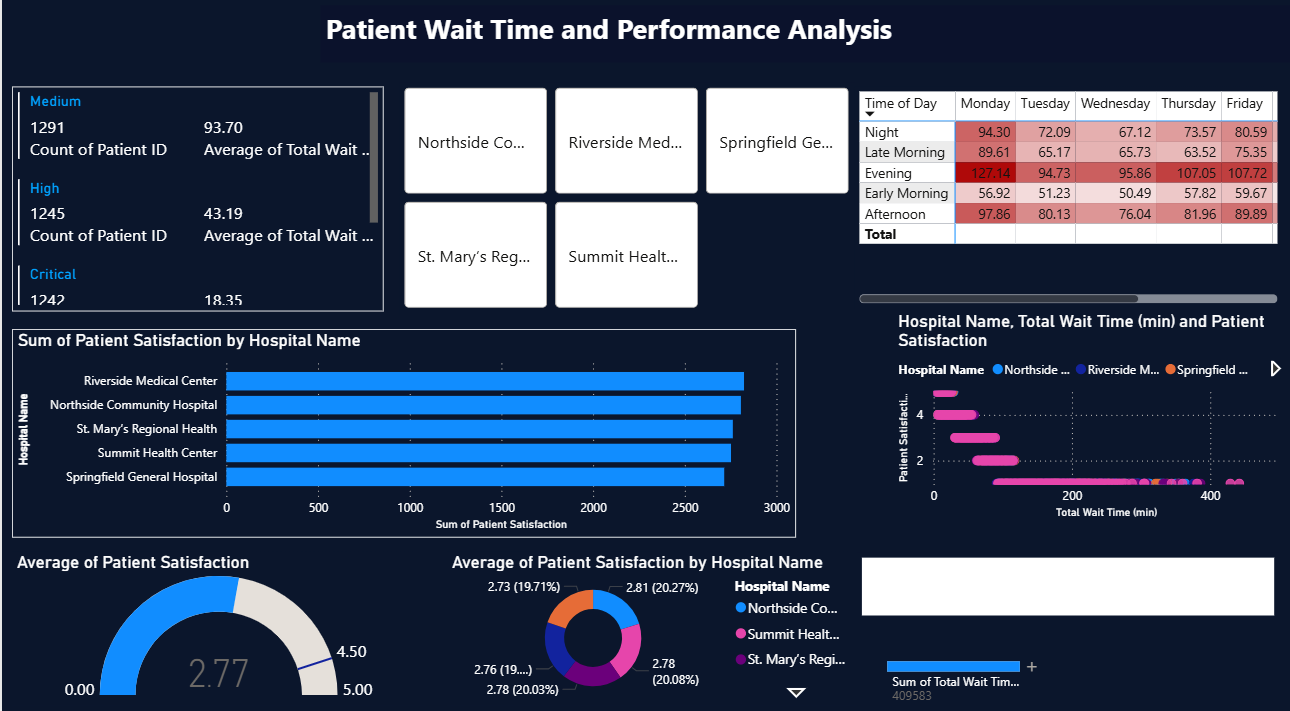

This screenshot's page, from the dashboard's own definition file:
{"tool":"powerbi","page":{"name":"Page 1","canvas":[1280,720],"ordinal":0},"visuals":[{"type":"gauge","fields":{"Y":["Avg(ER Wait Time Dataset.Patient Satisfaction)"]},"box":[9.6,557.1,406.2,150.9],"z":0},{"type":"donutChart","fields":{"Category":["ER Wait Time Dataset.Hospital Name"],"Y":["Avg(ER Wait Time Dataset.Patient Satisfaction)"]},"box":[436.4,557.1,406.2,150.9],"z":1000},{"type":"advancedSlicerVisual","fields":{"Values":["ER Wait Time Dataset.Hospital Name"]},"box":[389.7,97.4,447.3,227.8],"z":2000},{"type":"decompositionTreeVisual","fields":{"Analyze":["Sum(ER Wait Time Dataset.Total Wait Time (min))"],"ExplainBy":["ER Wait Time Dataset.Time of Day","ER Wait Time Dataset.Urgency Level","ER Wait Time Dataset.Hospital Name"]},"box":[839.3,558.3,414.7,150.9],"z":3000},{"type":"scatterChart","fields":{"Y":["ER Wait Time Dataset.Patient Satisfaction"],"X":["ER Wait Time Dataset.Total Wait Time (min)"],"Series":["ER Wait Time Dataset.Hospital Name"]},"box":[874.3,320,394.3,210],"z":4000},{"type":"pivotTable","fields":{"Rows":["ER Wait Time Dataset.Time of Day"],"Columns":["ER Wait Time Dataset.Day of Week"],"Values":["Avg(ER Wait Time Dataset.Total Wait Time (min))"]},"box":[837.1,100.2,419.9,218.2],"z":5000},{"type":"clusteredBarChart","fields":{"Y":["Sum(ER Wait Time Dataset.Patient Satisfaction)"],"Category":["ER Wait Time Dataset.Hospital Name"]},"box":[9.6,338.9,769.8,204.5],"z":6000},{"type":"multiRowCard","fields":{"Values":["ER Wait Time Dataset.Patient ID","Avg(ER Wait Time Dataset.Total Wait Time (min))","ER Wait Time Dataset.Urgency Level"]},"box":[9.6,100.2,365,220.9],"z":7000},{"type":"textbox","box":[312.9,20.6,966,56.3],"z":8001}]}

Visuals, with their boxes in screenshot pixels (x1, y1, x2, y2), scaled from the page's 1280x720 canvas onto the 1290x711 screenshot:
gauge - Avg(ER Wait Time Dataset.Patient Satisfaction): <box>10,550,419,699</box>
donutChart - ER Wait Time Dataset.Hospital Name x Avg(ER Wait Time Dataset.Patient Satisfaction): <box>440,550,849,699</box>
advancedSlicerVisual - ER Wait Time Dataset.Hospital Name: <box>393,96,844,321</box>
decompositionTreeVisual - Sum(ER Wait Time Dataset.Total Wait Time (min)) x ER Wait Time Dataset.Time of Day: <box>846,551,1264,700</box>
scatterChart - ER Wait Time Dataset.Patient Satisfaction x ER Wait Time Dataset.Total Wait Time (min): <box>881,316,1279,523</box>
pivotTable - ER Wait Time Dataset.Time of Day x ER Wait Time Dataset.Day of Week: <box>844,99,1267,314</box>
clusteredBarChart - Sum(ER Wait Time Dataset.Patient Satisfaction) x ER Wait Time Dataset.Hospital Name: <box>10,335,785,537</box>
multiRowCard - ER Wait Time Dataset.Patient ID x Avg(ER Wait Time Dataset.Total Wait Time (min)): <box>10,99,378,317</box>
textbox: <box>315,20,1289,76</box>
